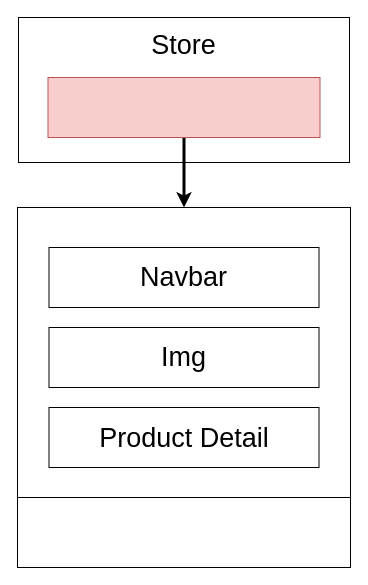
Image size: 368x585. Some labels were removed from this diagram. The shapes that lost their labels are listed below. From the top down, each one's centre as x and y in pixels, then its label:
pixel 183 107: items.currentItem
pixel 183 532: Fixed Footer
